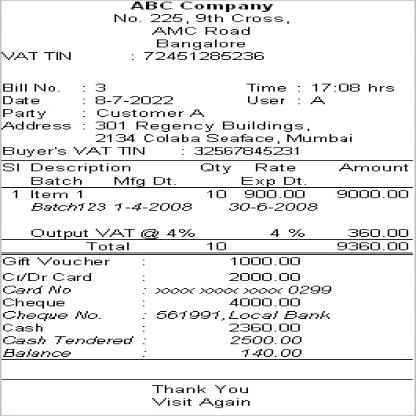receipts: (4, 3, 394, 415)
